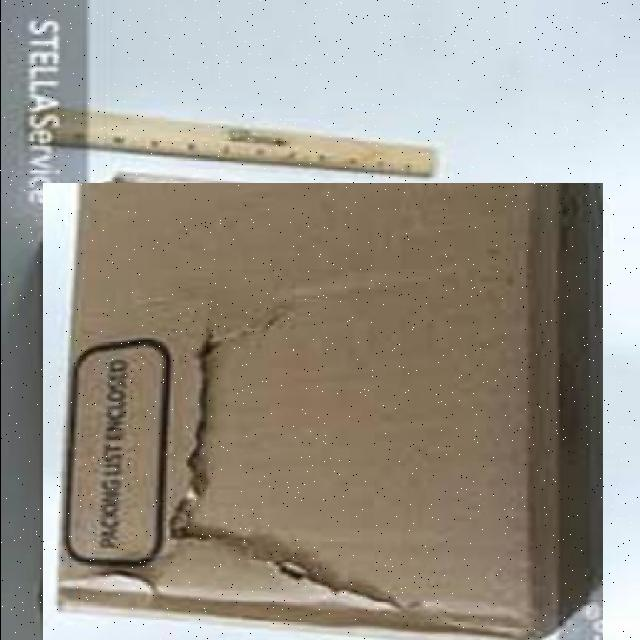defect: (41, 183, 602, 640)
